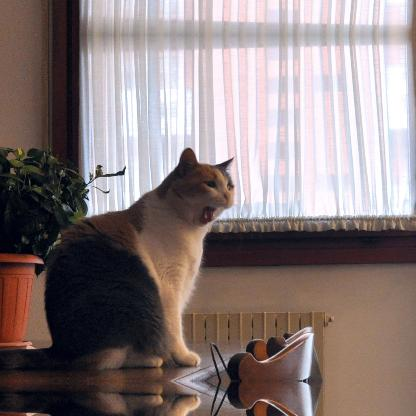Cat: (0, 145, 237, 367)
